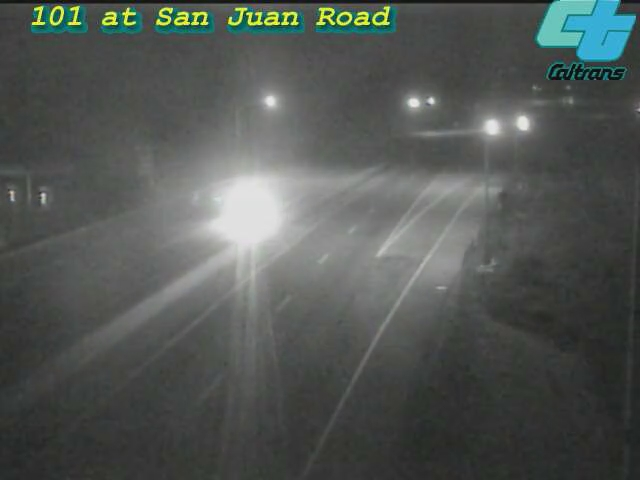vehicle: (195, 172, 275, 252), (462, 103, 512, 153), (497, 99, 547, 149)
